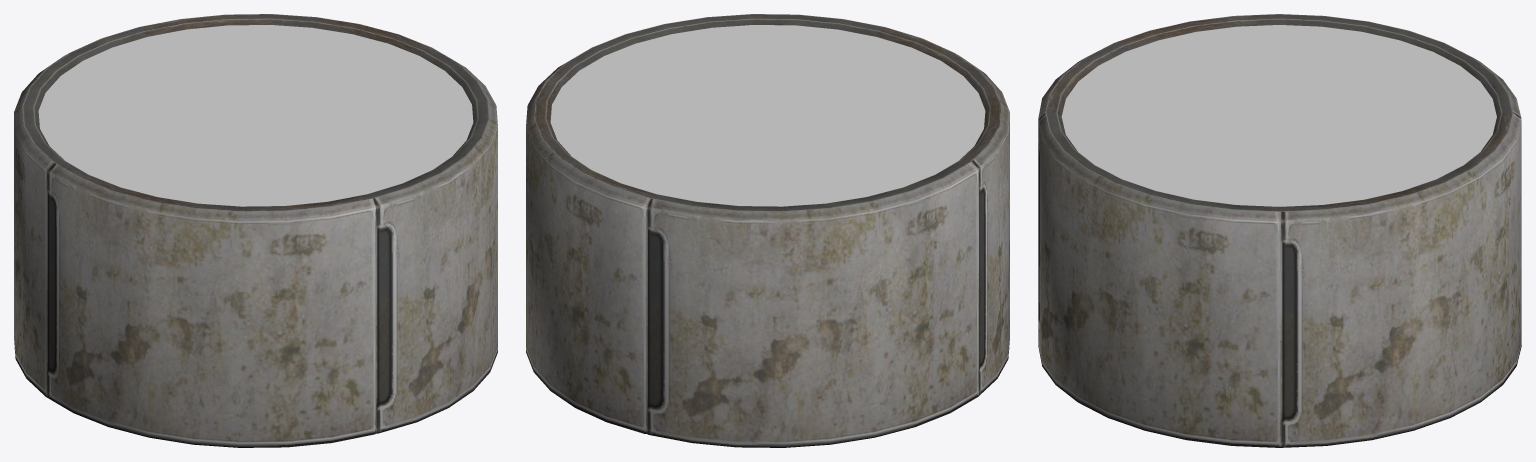
The model's file is computer_lab_table_round.dae.
The picture shows the model from 3 angles, left to right: view 1: azimuth 30°, elevation 25°; view 2: azimuth 150°, elevation 25°; view 3: azimuth 270°, elevation 25°; orthographic projection.
Visible parts, largest first — view 1: polySurface1, polySurface2; view 2: polySurface1, polySurface2; view 3: polySurface1, polySurface2.
Boxes of the visible parts, box(x1,y1,x2,y2) form: polySurface1: box(14, 14, 497, 447); polySurface2: box(38, 25, 473, 206); polySurface1: box(526, 14, 1009, 447); polySurface2: box(550, 25, 985, 206); polySurface1: box(1038, 14, 1521, 447); polySurface2: box(1061, 25, 1496, 206).
Size of the model in its own units: 1.82 by 0.9644 by 1.81.
